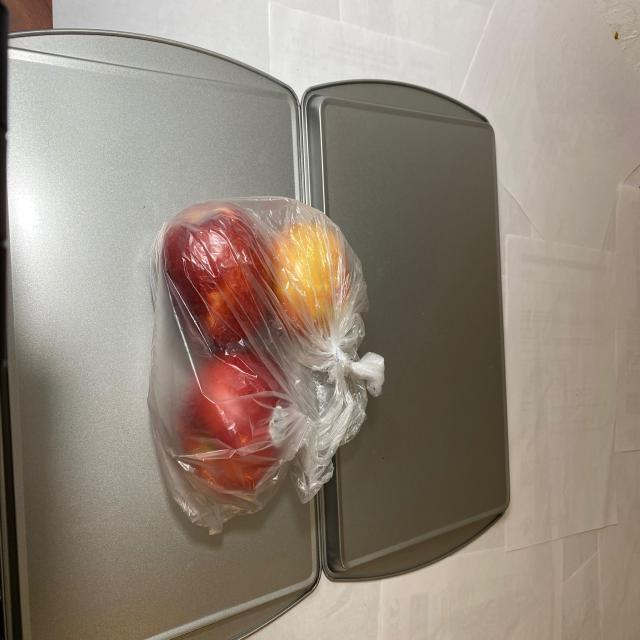apple: (156, 201, 359, 515)
